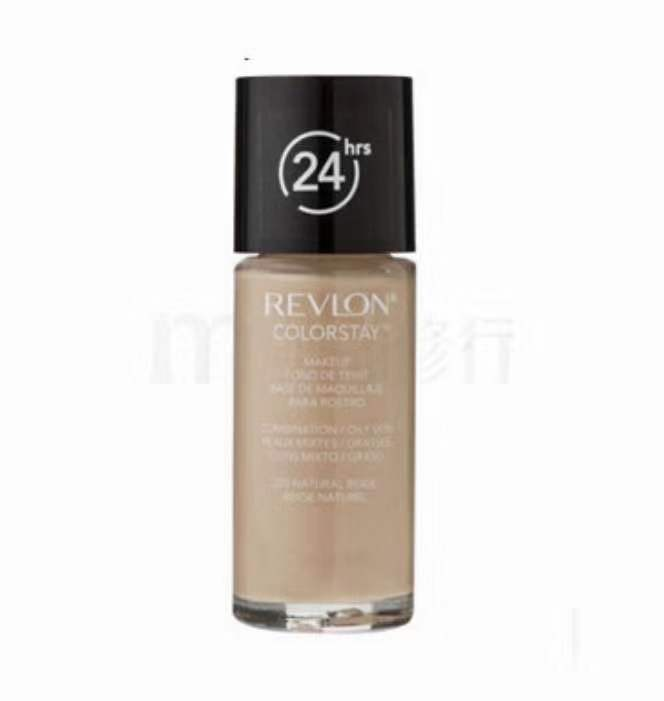cosmetic: (231, 78, 414, 626)
